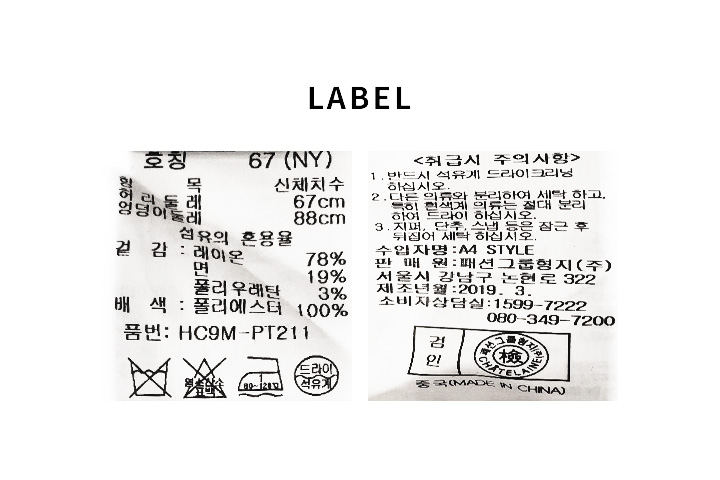KR_dry_clean_petroleum: (291, 350, 341, 400)
KR_iron_low_temp_with_cloth: (235, 352, 287, 399)
KR_no_bleach: (180, 352, 231, 402)
KR_no_wash: (127, 355, 173, 401)
